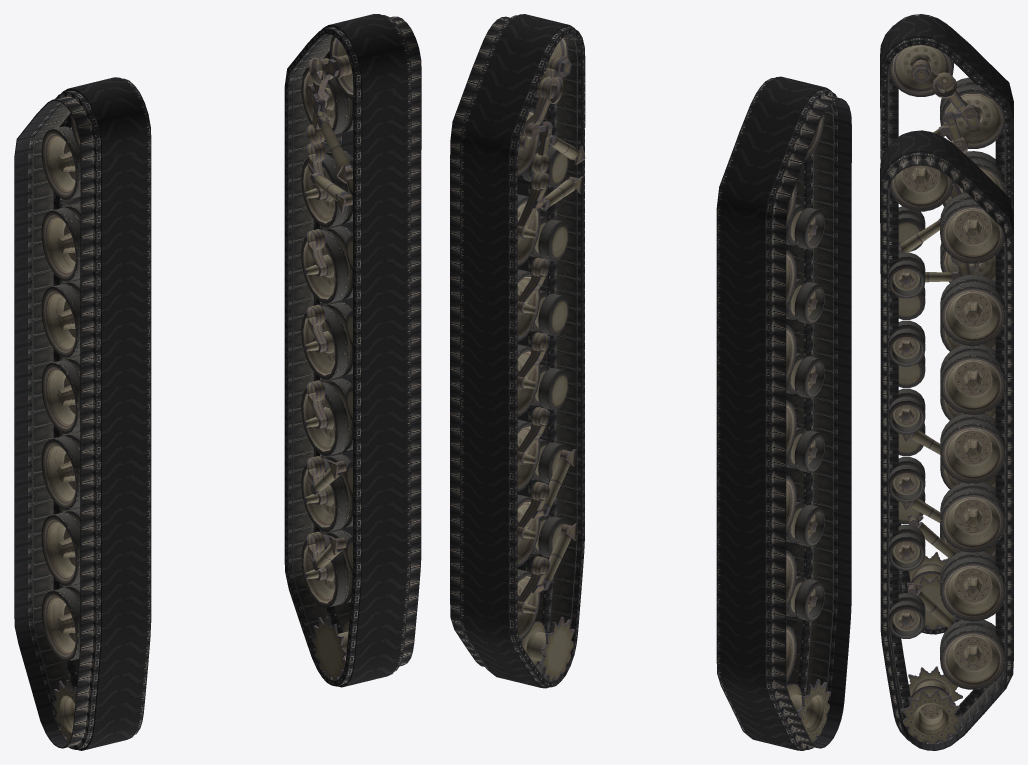
Rendered from Chassis.glb.
The picture shows the model from 3 angles, left to right: view 1: azimuth 30°, elevation 25°; view 2: azimuth 150°, elevation 25°; view 3: azimuth 270°, elevation 25°; orthographic projection. The views are drawn at different scales.
Visible parts, largest first — view 1: set_0_group_0, set_1_group_0, set_3_group_0, set_2_group_0; view 2: set_0_group_0, set_1_group_0, set_3_group_0, set_2_group_0; view 3: set_3_group_0, set_1_group_0, set_2_group_0, set_0_group_0.
Boxes of the visible parts, x1=… form: set_0_group_0: x1=14, y1=77, x2=151, y2=750; set_1_group_0: x1=284, y1=14, x2=421, y2=687; set_3_group_0: x1=301, y1=36, x2=353, y2=680; set_2_group_0: x1=41, y1=113, x2=80, y2=741; set_0_group_0: x1=716, y1=76, x2=851, y2=750; set_1_group_0: x1=450, y1=14, x2=585, y2=688; set_3_group_0: x1=517, y1=37, x2=585, y2=681; set_2_group_0: x1=786, y1=113, x2=831, y2=742; set_3_group_0: x1=889, y1=165, x2=1005, y2=744; set_1_group_0: x1=880, y1=130, x2=1013, y2=750; set_2_group_0: x1=889, y1=45, x2=1005, y2=629; set_0_group_0: x1=880, y1=14, x2=1013, y2=634.
Bounding box in the file's own units: 3.57 × 6.63 × 1.34.
Materials: 4 (4 with a texture image).
